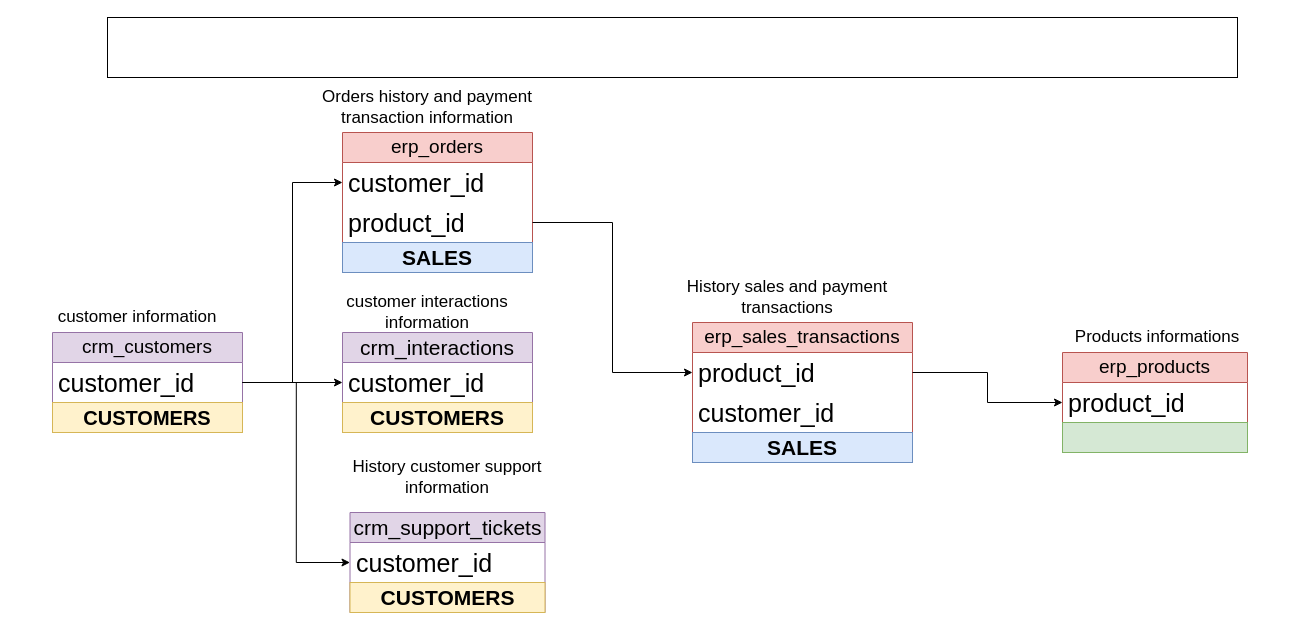
Some shapes in this 1294 by 630 pixel diagram are drawn without their labels. The centre of each missing label's shape, as x and y in pixels:
Integration Model (How tables are related): point (672, 47)
PRODUCTS: point (1155, 437)
